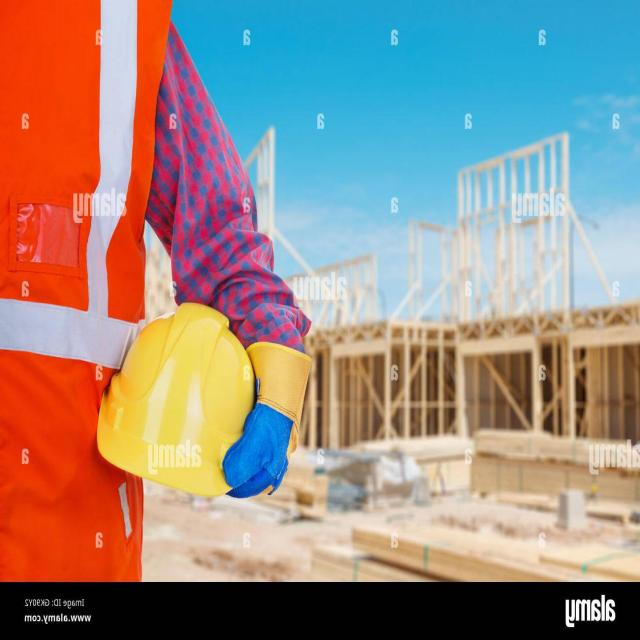Reflective-Jacket: (7, 0, 170, 598)
Safety-Helmet: (95, 300, 266, 499)
